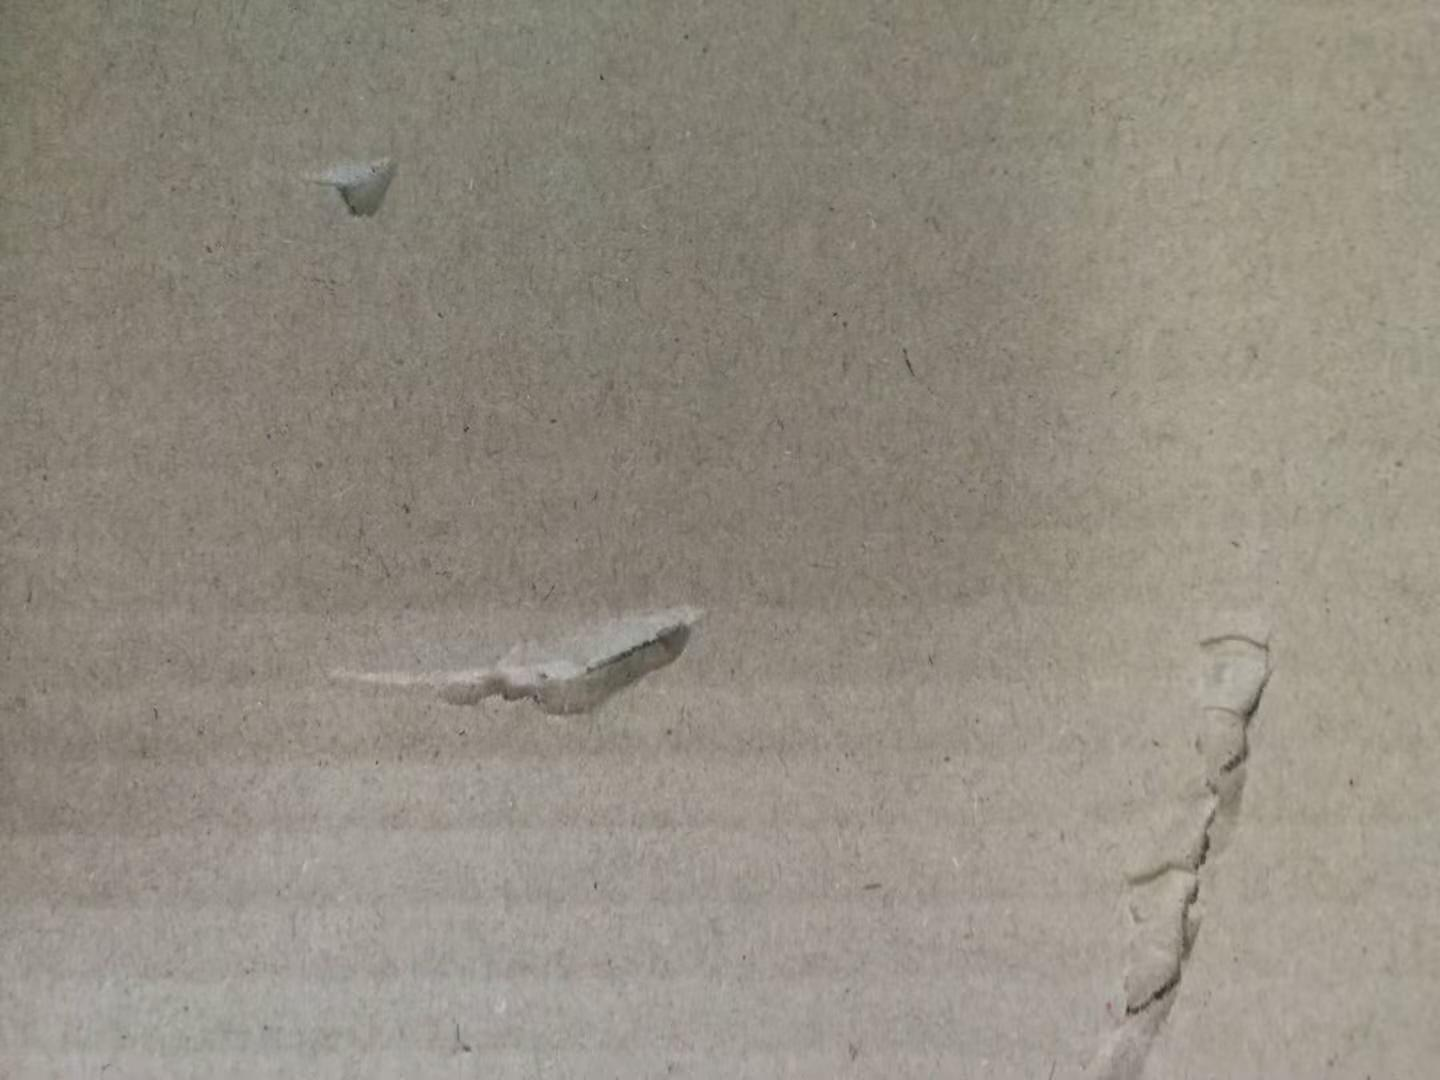defect: (1042, 601, 1308, 1080), (310, 581, 737, 743), (276, 130, 435, 252)
